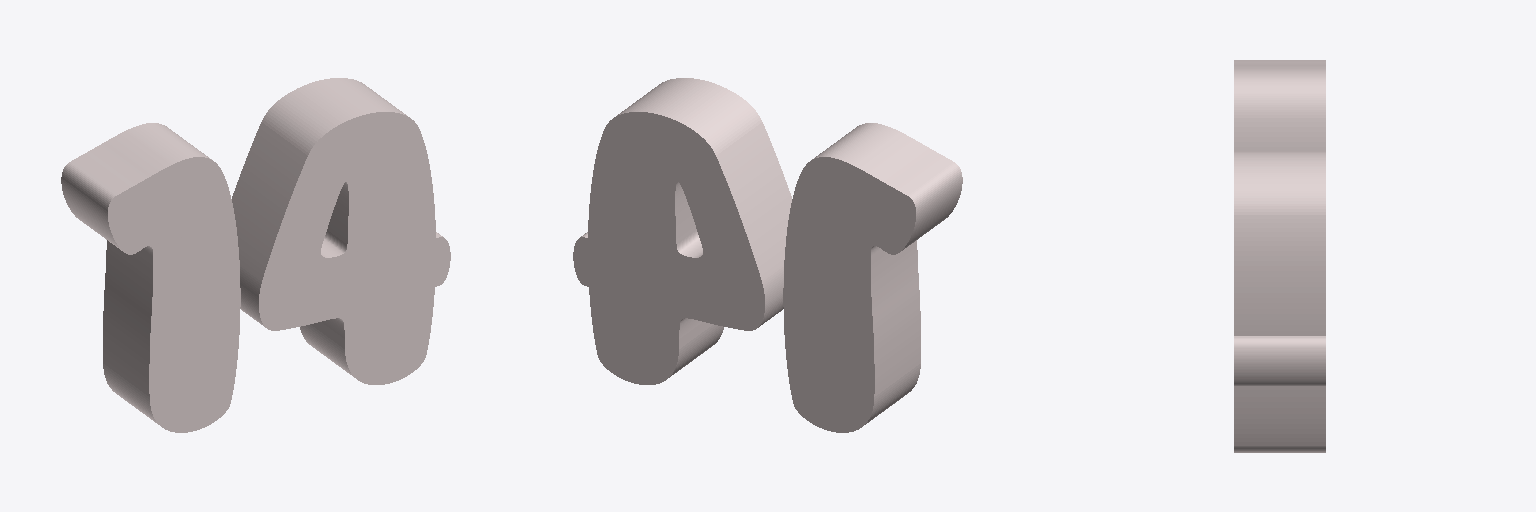
The model's file is Number14.obj.
The picture shows the model from 3 angles: view 1: azimuth 30°, elevation 25°; view 2: azimuth 150°, elevation 25°; view 3: azimuth 270°, elevation 25°; orthographic projection.
Parts seen in each view (by area): view 1: Text; view 2: Text; view 3: Text.
Boxes of the visible parts, box(x1,y1,x2,y2) form: Text: box(61, 78, 450, 432); Text: box(573, 78, 962, 432); Text: box(1234, 60, 1325, 452).
Size of the model in its own units: 0.7667 by 0.5873 by 0.18.